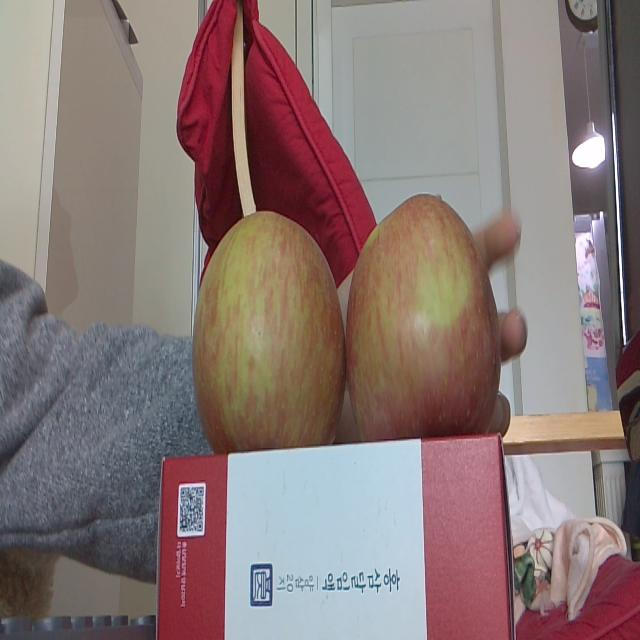apple: (192, 206, 348, 446), (344, 192, 500, 432)
